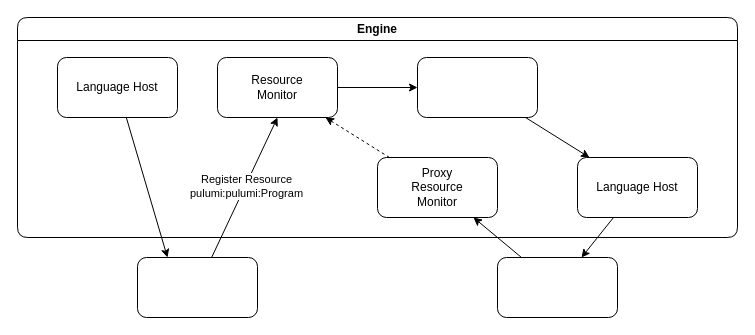
Image size: 755x335. Some labels were removed from this diagram. Each missing label, with the centre of its shape:
"Builtin Provider" goes at (x=477, y=87).
"Program 1" goes at (x=197, y=287).
"Program 2" goes at (x=557, y=287).
